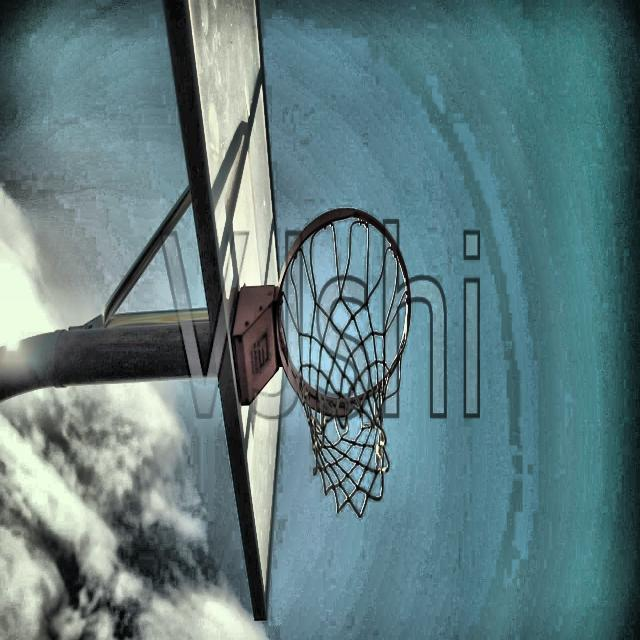rim: (276, 207, 412, 520)
